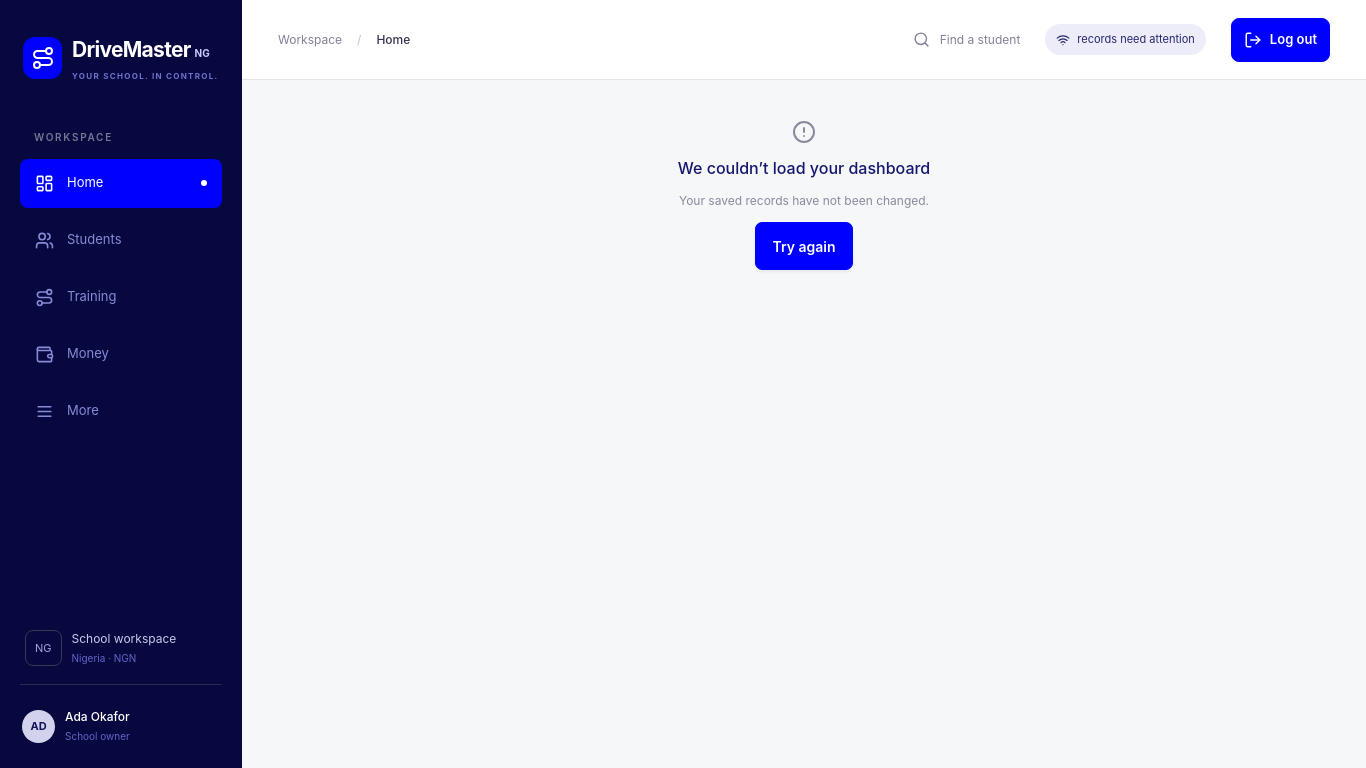
Test case: App › logging out returns to the login form
The width and height of the screenshot is (1366, 768).
Expected: the text "Ada Okafor" is shown, [65,708,130,726]
Click the button "Log out" at (1280, 40), box [1231,18,1330,62]
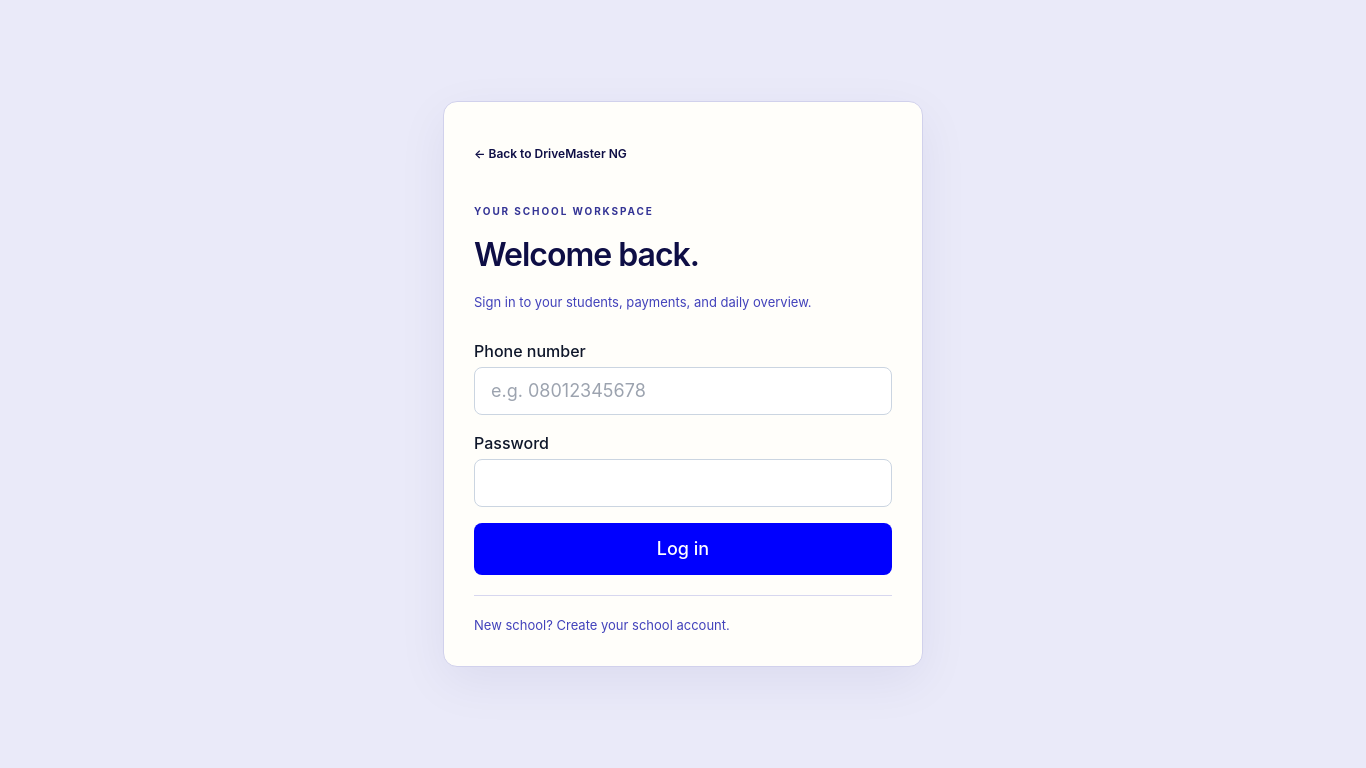
Now the field labelled "Phone number" is shown, box [474,366,892,414]
